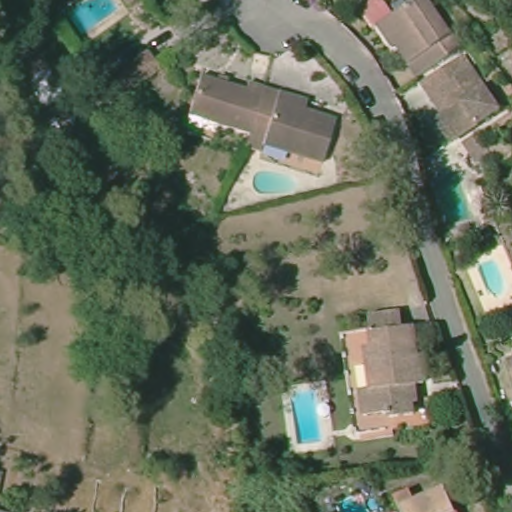pool: (429, 157, 476, 229), (284, 381, 329, 452), (62, 1, 127, 39), (248, 161, 306, 200), (474, 255, 510, 300)
